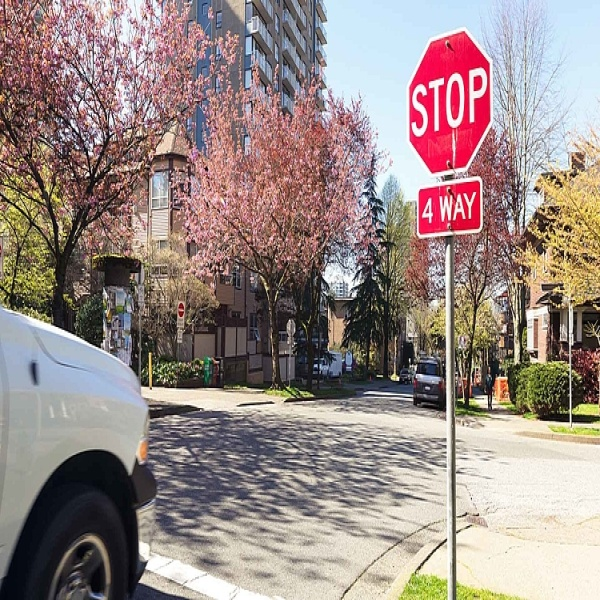stop: (406, 25, 497, 170)
